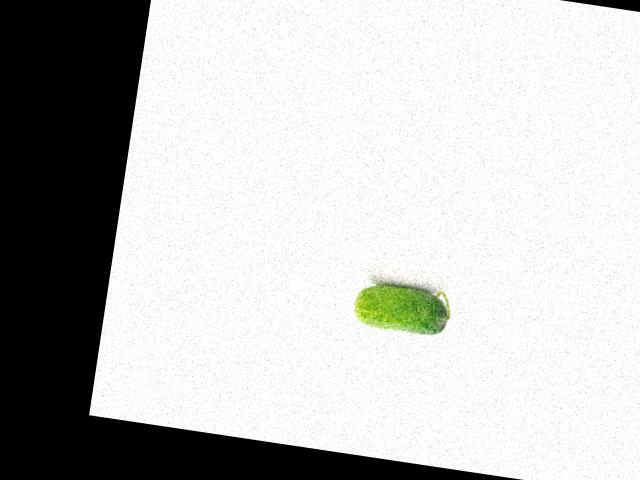cucumber: (350, 278, 452, 337)
